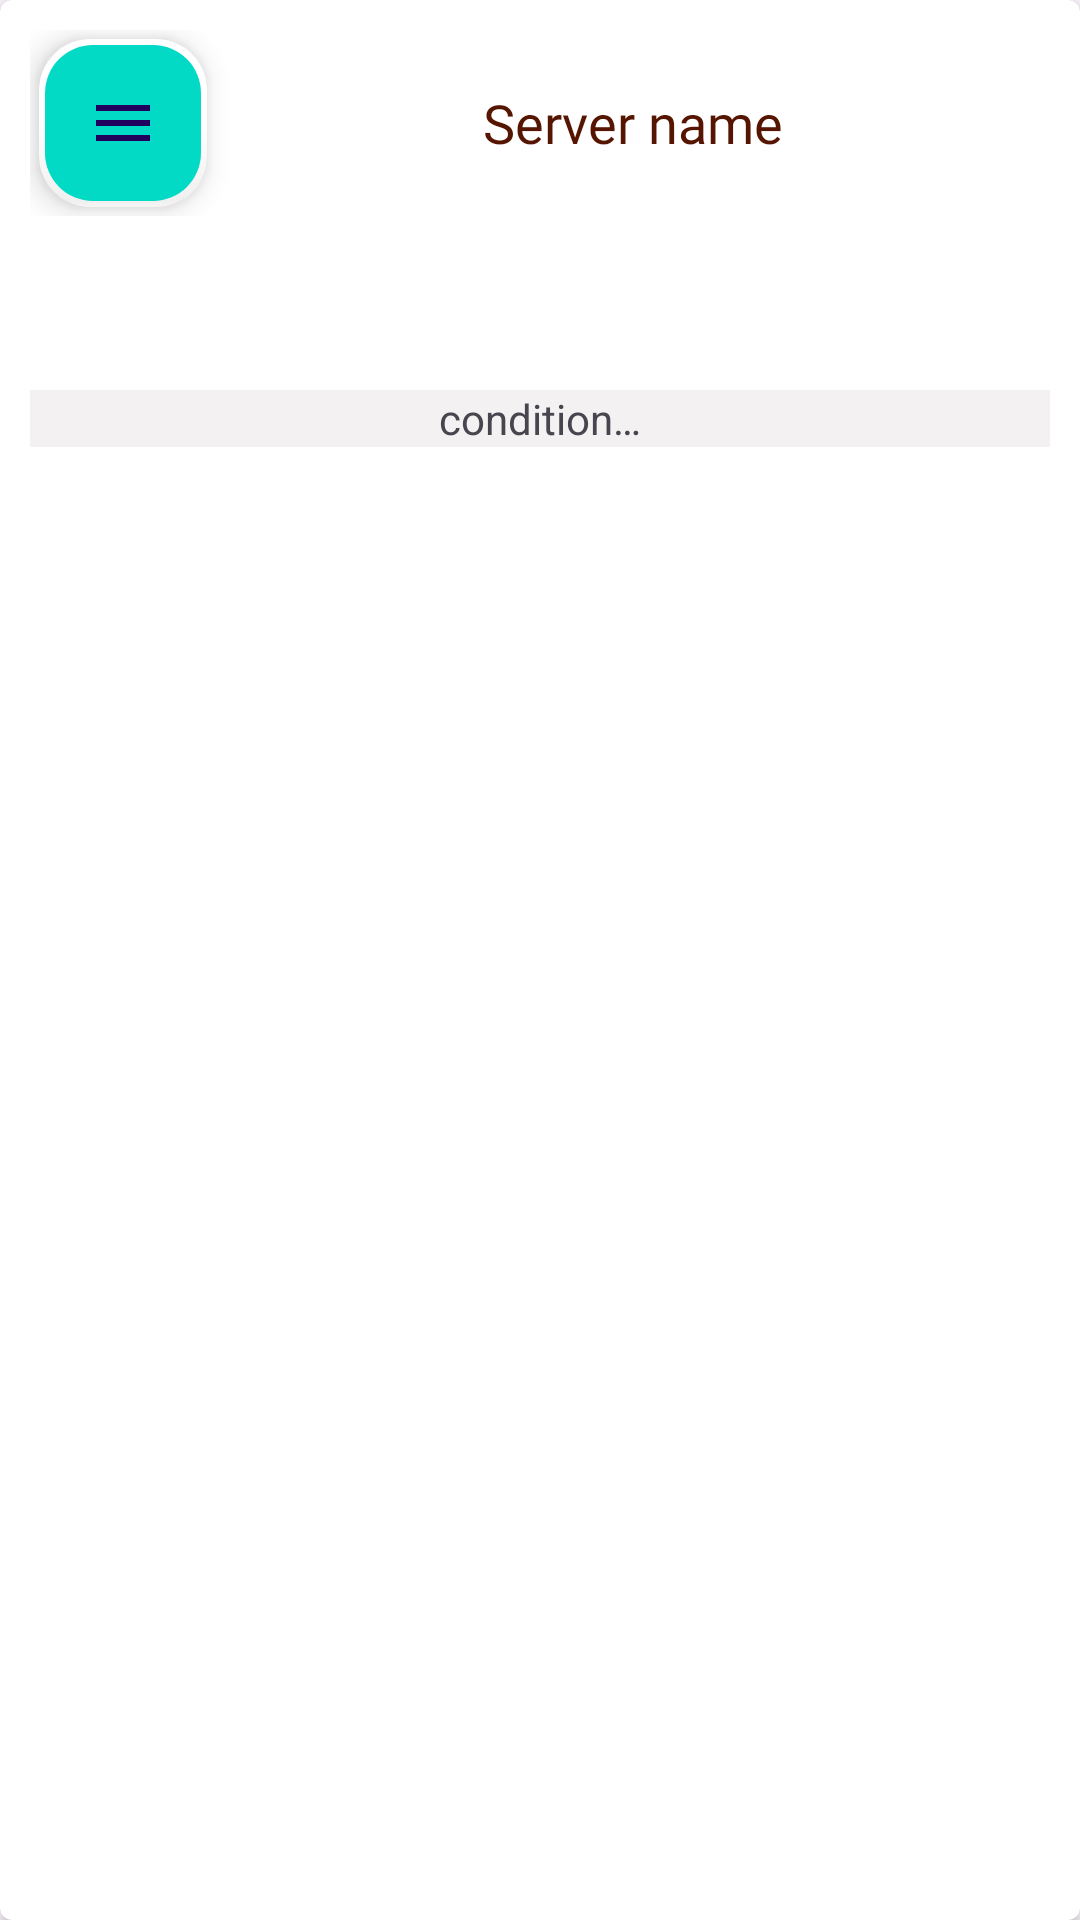

Named icons in this screenshot (1080px x 1920px) and their centers, (x,y):
menu: (120,124)
